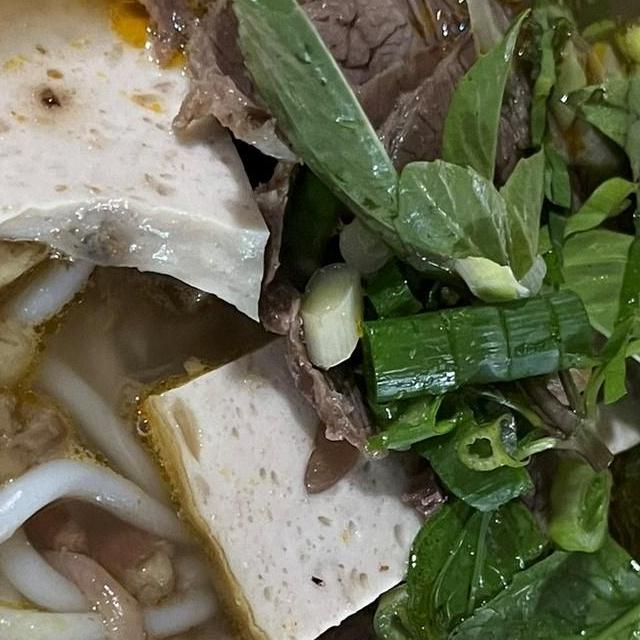bun: (0, 248, 325, 640)
bun bo: (0, 0, 640, 640)
thit bo: (230, 136, 528, 534), (61, 0, 522, 178), (359, 0, 579, 232)
